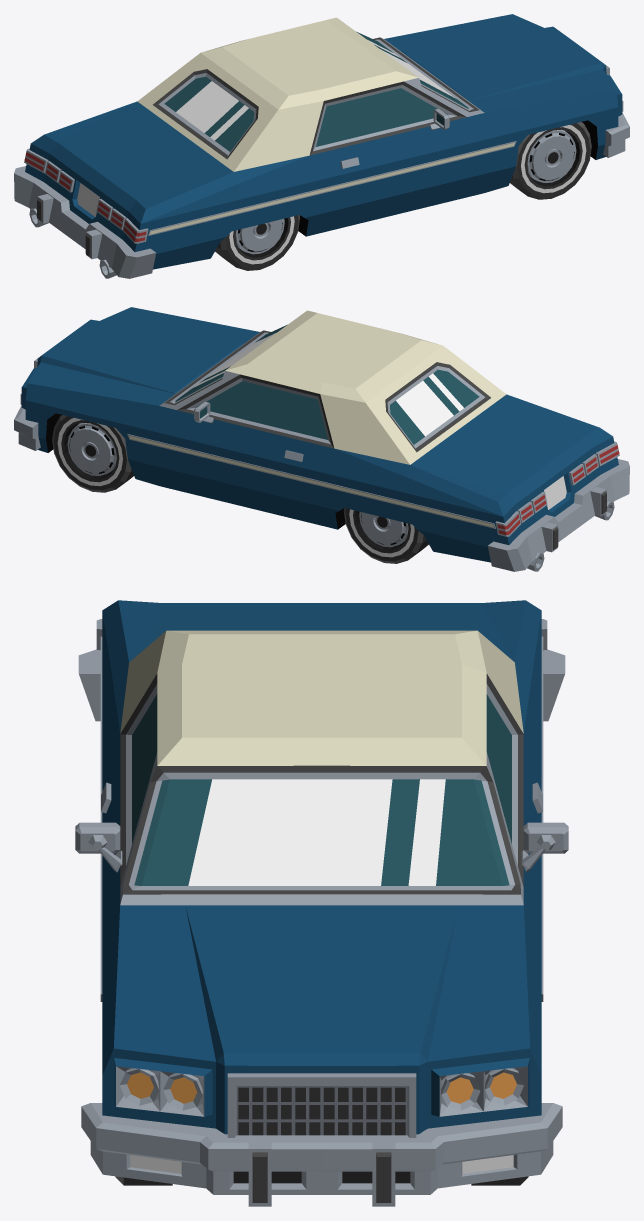
3 views of the same model, one above another, from view 1: azimuth 30°, elevation 25°; view 2: azimuth 150°, elevation 25°; view 3: azimuth 270°, elevation 25° (orthographic). The views are drawn at different scales.
Visible parts, largest first — view 1: Body_0; view 2: Body_0; view 3: Body_0.
Boxes of the visible parts, box(x1,y1,x2,y2) form: Body_0: box(14, 14, 629, 278); Body_0: box(14, 307, 629, 571); Body_0: box(75, 600, 568, 1206).
Bounding box in the file's own units: 12.27 × 3.29 × 4.87.
1 material, 1 textured.
